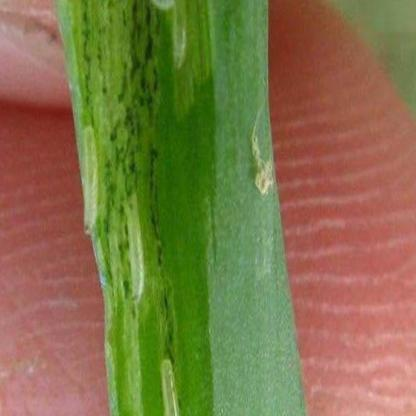whorl-maggot: (122, 187, 150, 309), (80, 119, 102, 240), (156, 348, 184, 416)
